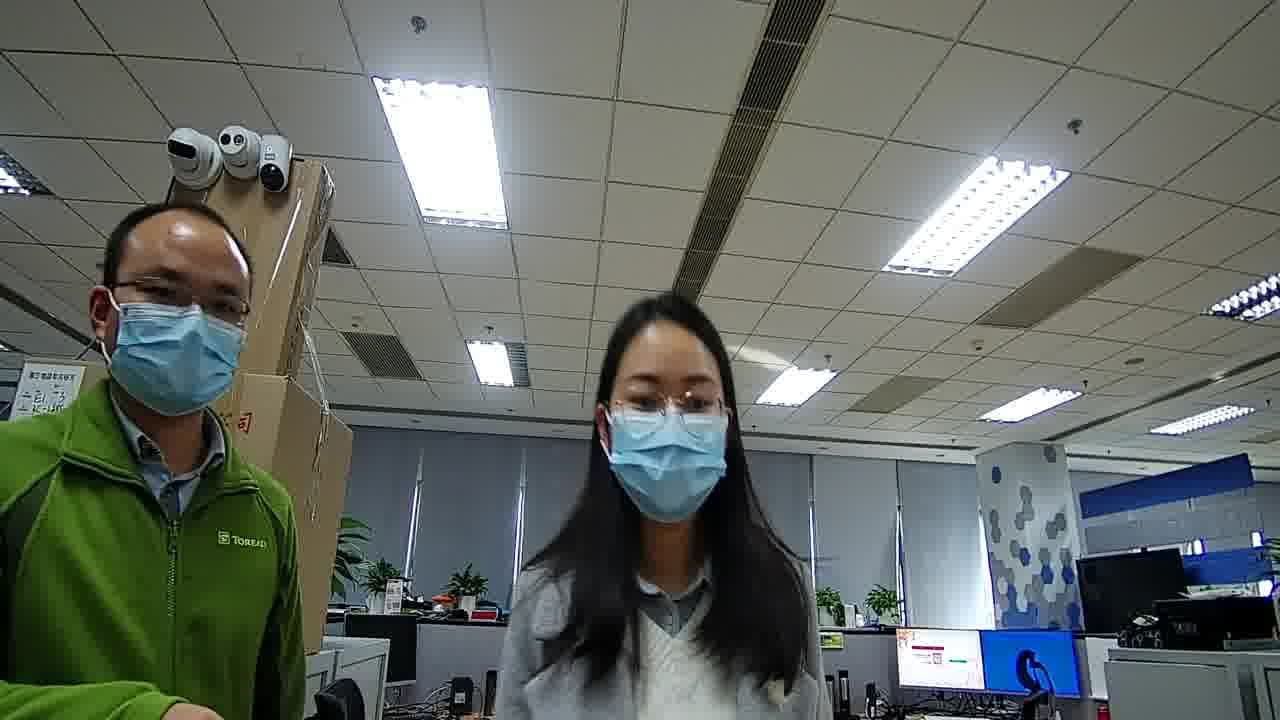face: (104, 237, 255, 423), (596, 323, 732, 526)
mask: (109, 301, 246, 419), (604, 412, 725, 522)
person: (1, 168, 331, 575), (545, 275, 810, 648)
